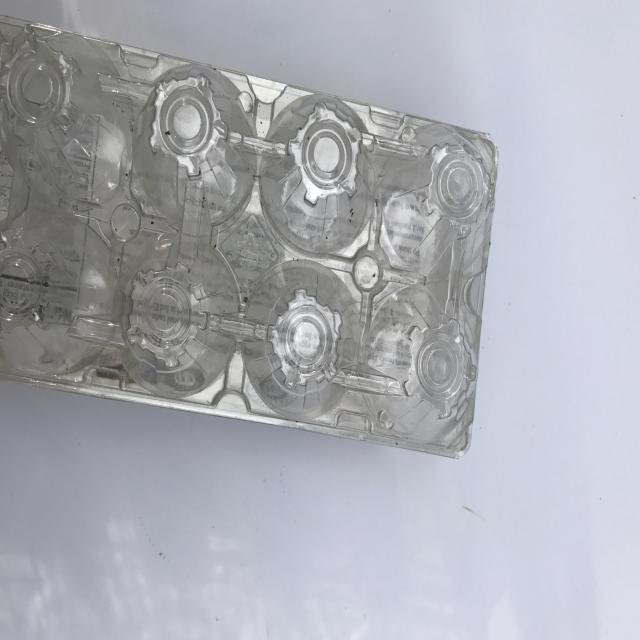plastic: (0, 17, 499, 460)
